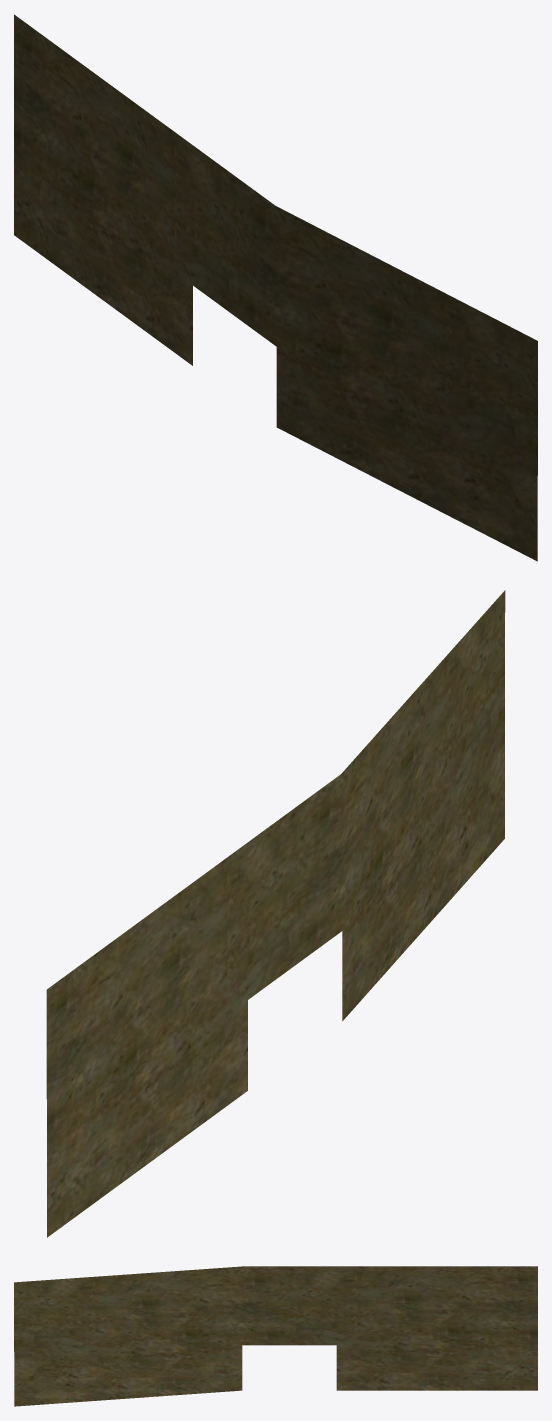
Rendered from CH09_SMAUG_PLAYSURFACE_LAIR126.fbx.
3 renders of one model, top to bottom at view 1: azimuth 30°, elevation 25°; view 2: azimuth 150°, elevation 25°; view 3: azimuth 270°, elevation 25°, orthographic. The views are drawn at different scales.
Visible parts, largest first — view 1: CH09_SMAUG_PLAYSURFACE_LAIR126; view 2: CH09_SMAUG_PLAYSURFACE_LAIR126; view 3: CH09_SMAUG_PLAYSURFACE_LAIR126.
Part boxes in pixels (bbox=[...]): CH09_SMAUG_PLAYSURFACE_LAIR126: bbox=[14, 14, 537, 561]; CH09_SMAUG_PLAYSURFACE_LAIR126: bbox=[46, 590, 505, 1237]; CH09_SMAUG_PLAYSURFACE_LAIR126: bbox=[14, 1266, 537, 1406].
Bounding box in the file's own units: 8917 × 32311 × 123509.
1 material, 1 textured.
